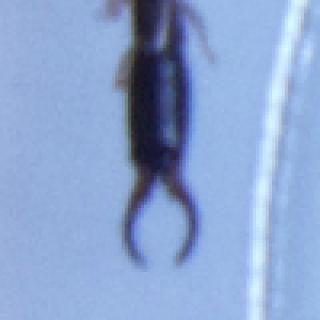earwig: (95, 0, 224, 272)
